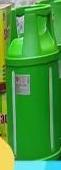cylinder: (1, 0, 61, 170)
